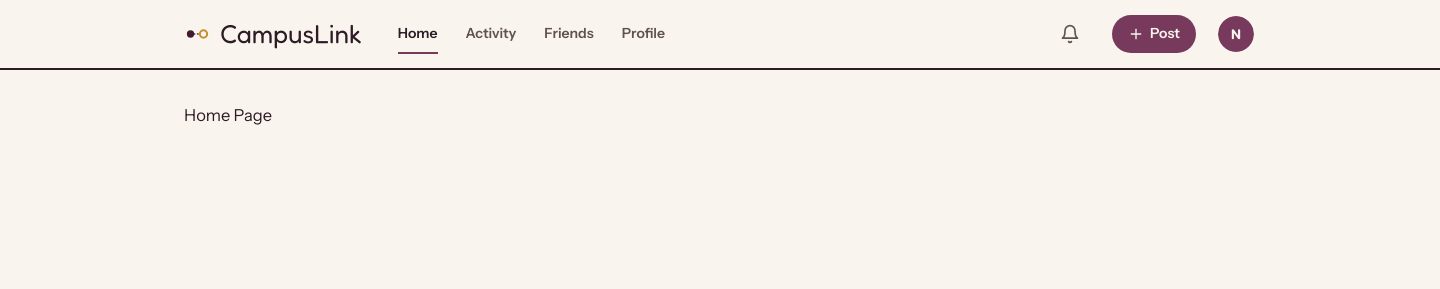
it: account menu › falls back to the auth email when no profile name is set yet
The width and height of the screenshot is (1440, 289).
Click the button named "account menu for your account". click: (1236, 34)
box: [1216, 14, 1256, 54]
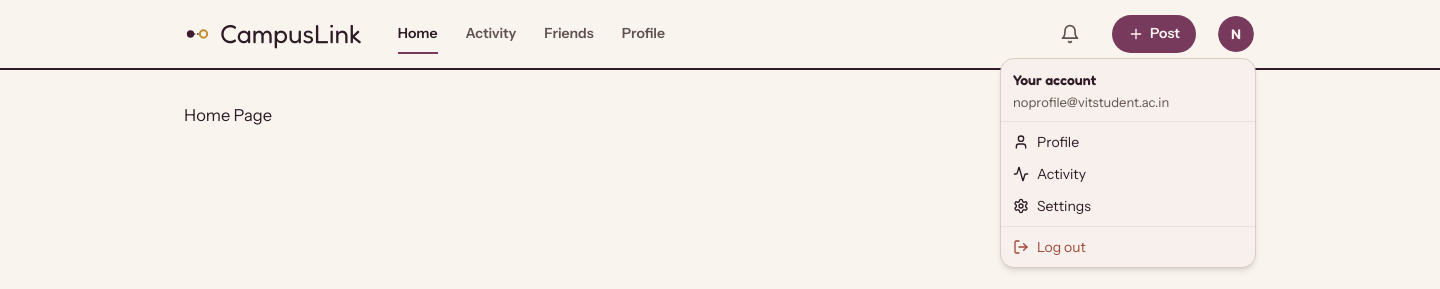
Expected: the text "noprofile@vitstudent.ac.in" is shown, [1013, 94, 1169, 110]
